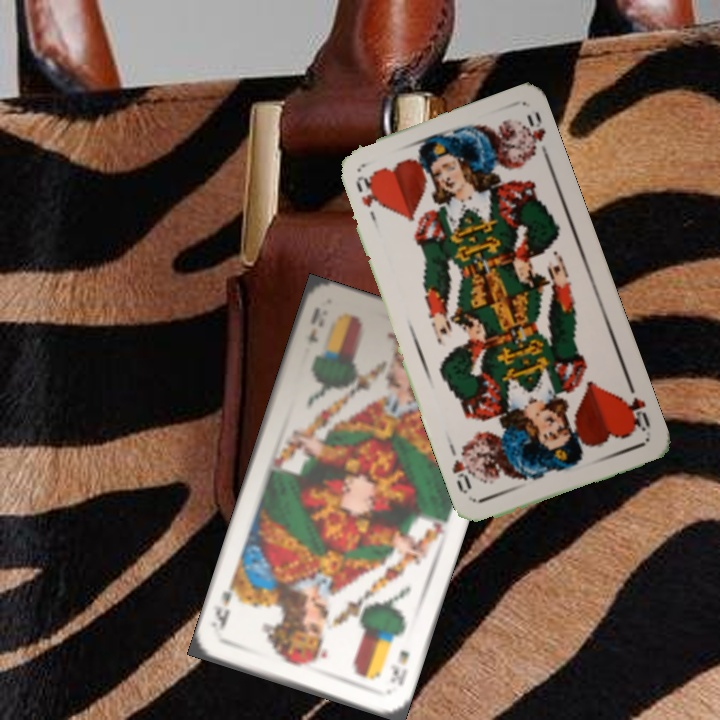EK: (386, 646, 412, 689), (306, 303, 327, 346)
HO: (620, 379, 653, 434), (351, 171, 380, 227)
